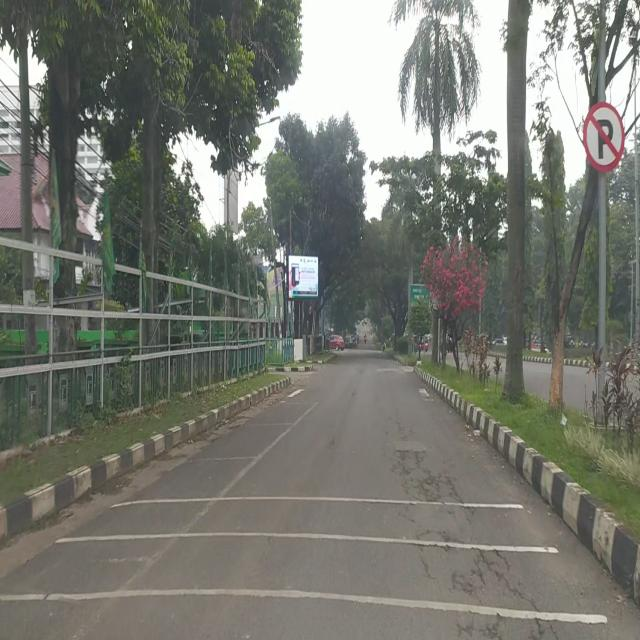Drain Hole: (388, 449, 560, 640)
